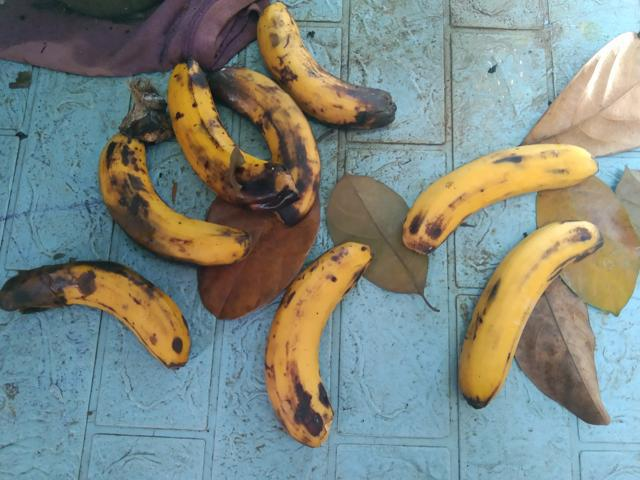overripe: (249, 230, 375, 460)
ripe: (446, 215, 614, 422), (395, 123, 605, 255)
rotten: (1, 243, 194, 374), (82, 138, 255, 277), (243, 4, 405, 131), (160, 53, 285, 213)
